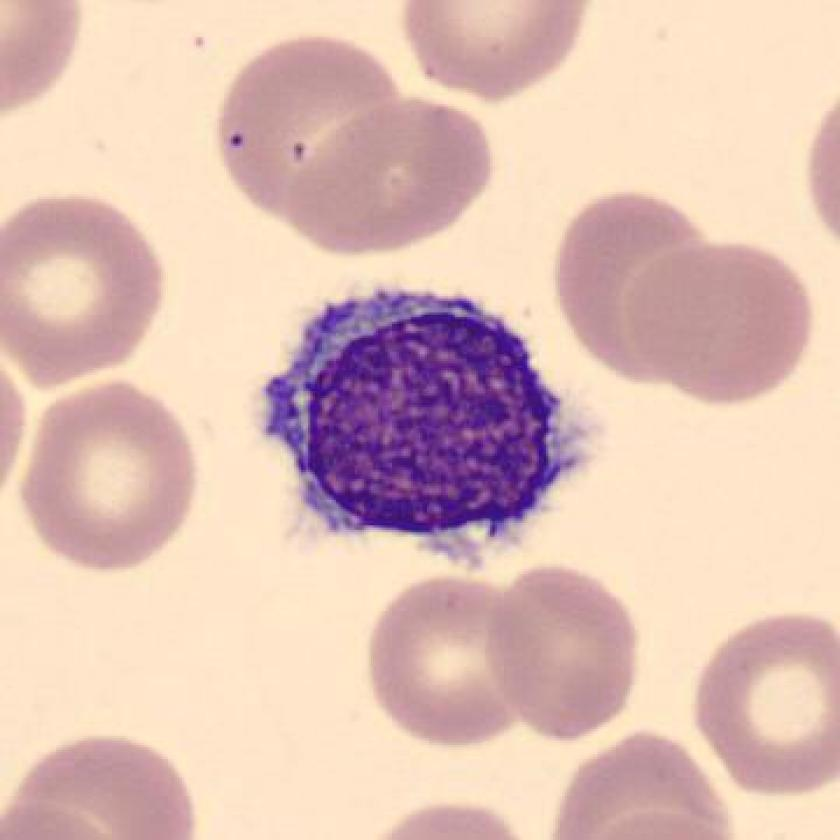lymphocyte: (249, 277, 592, 571)
